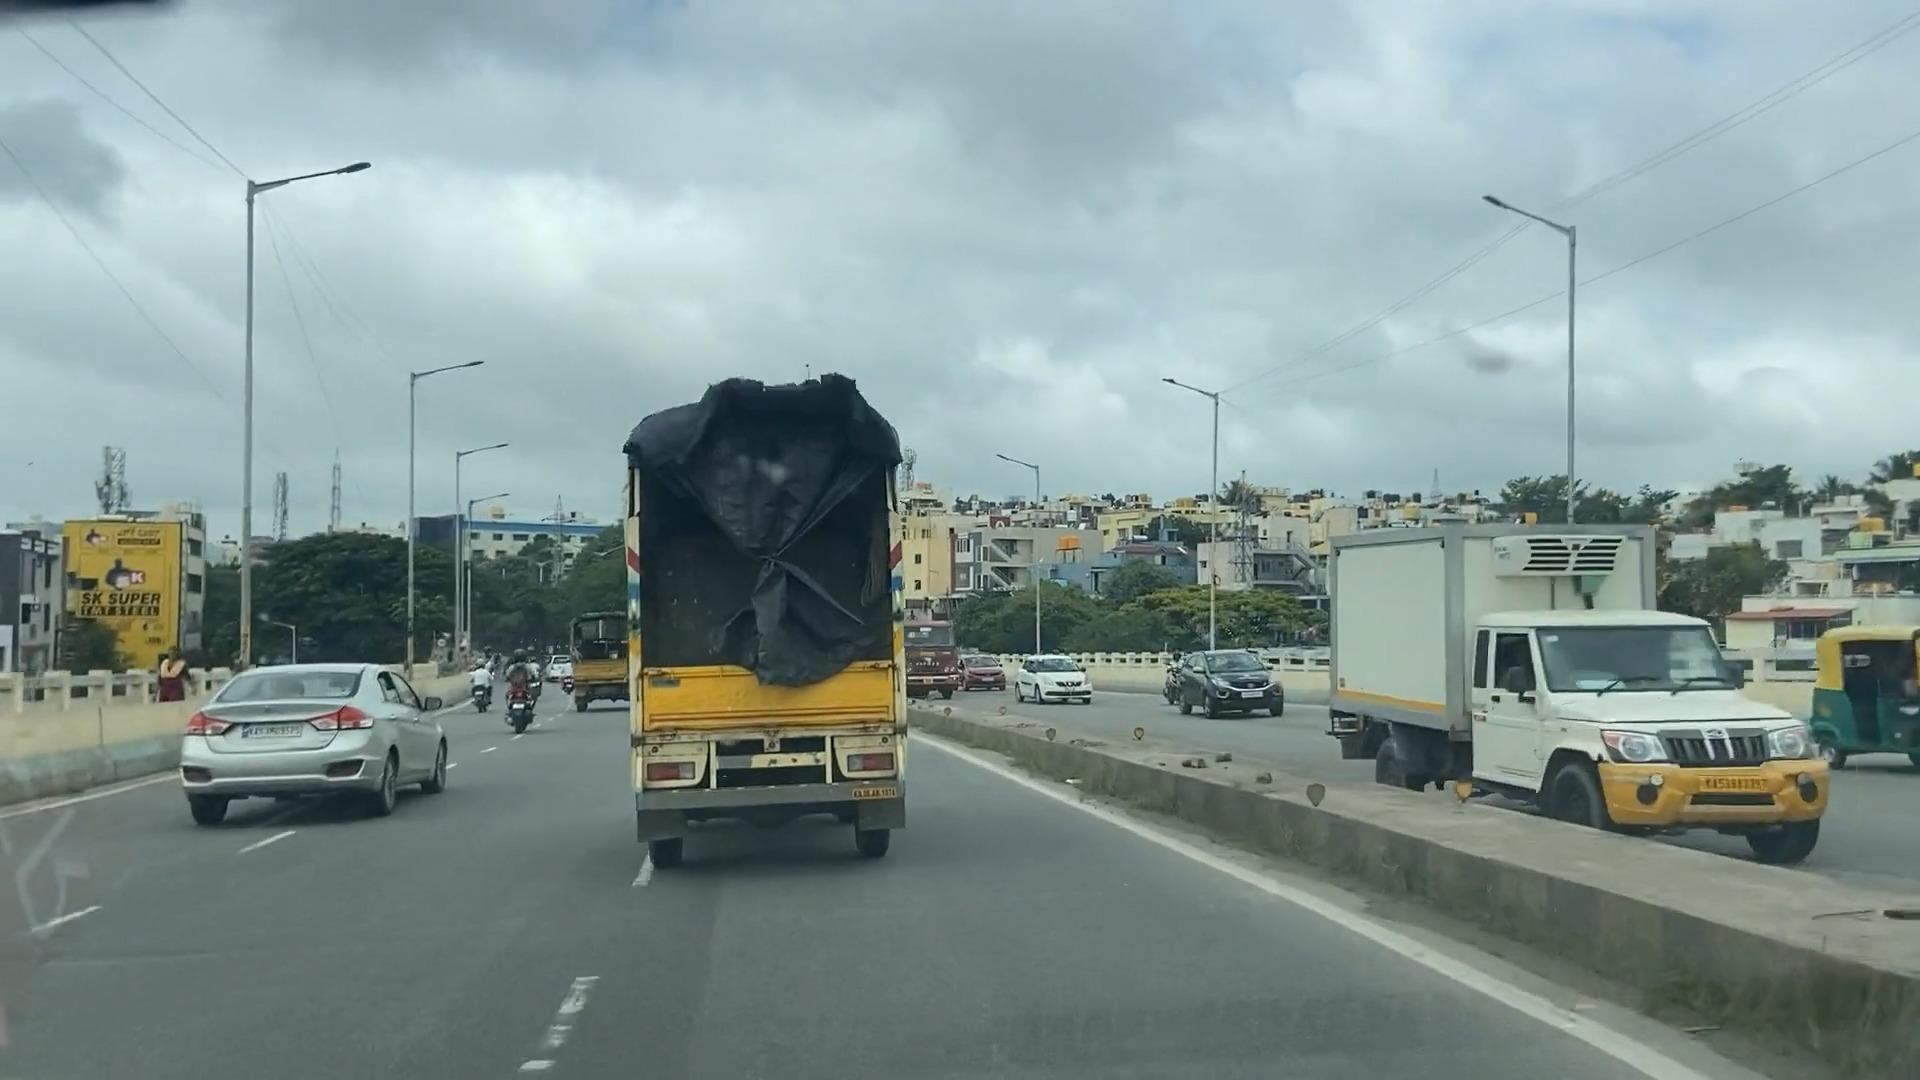HMV: (1291, 492, 1863, 870), (603, 355, 945, 873), (553, 589, 665, 731)
